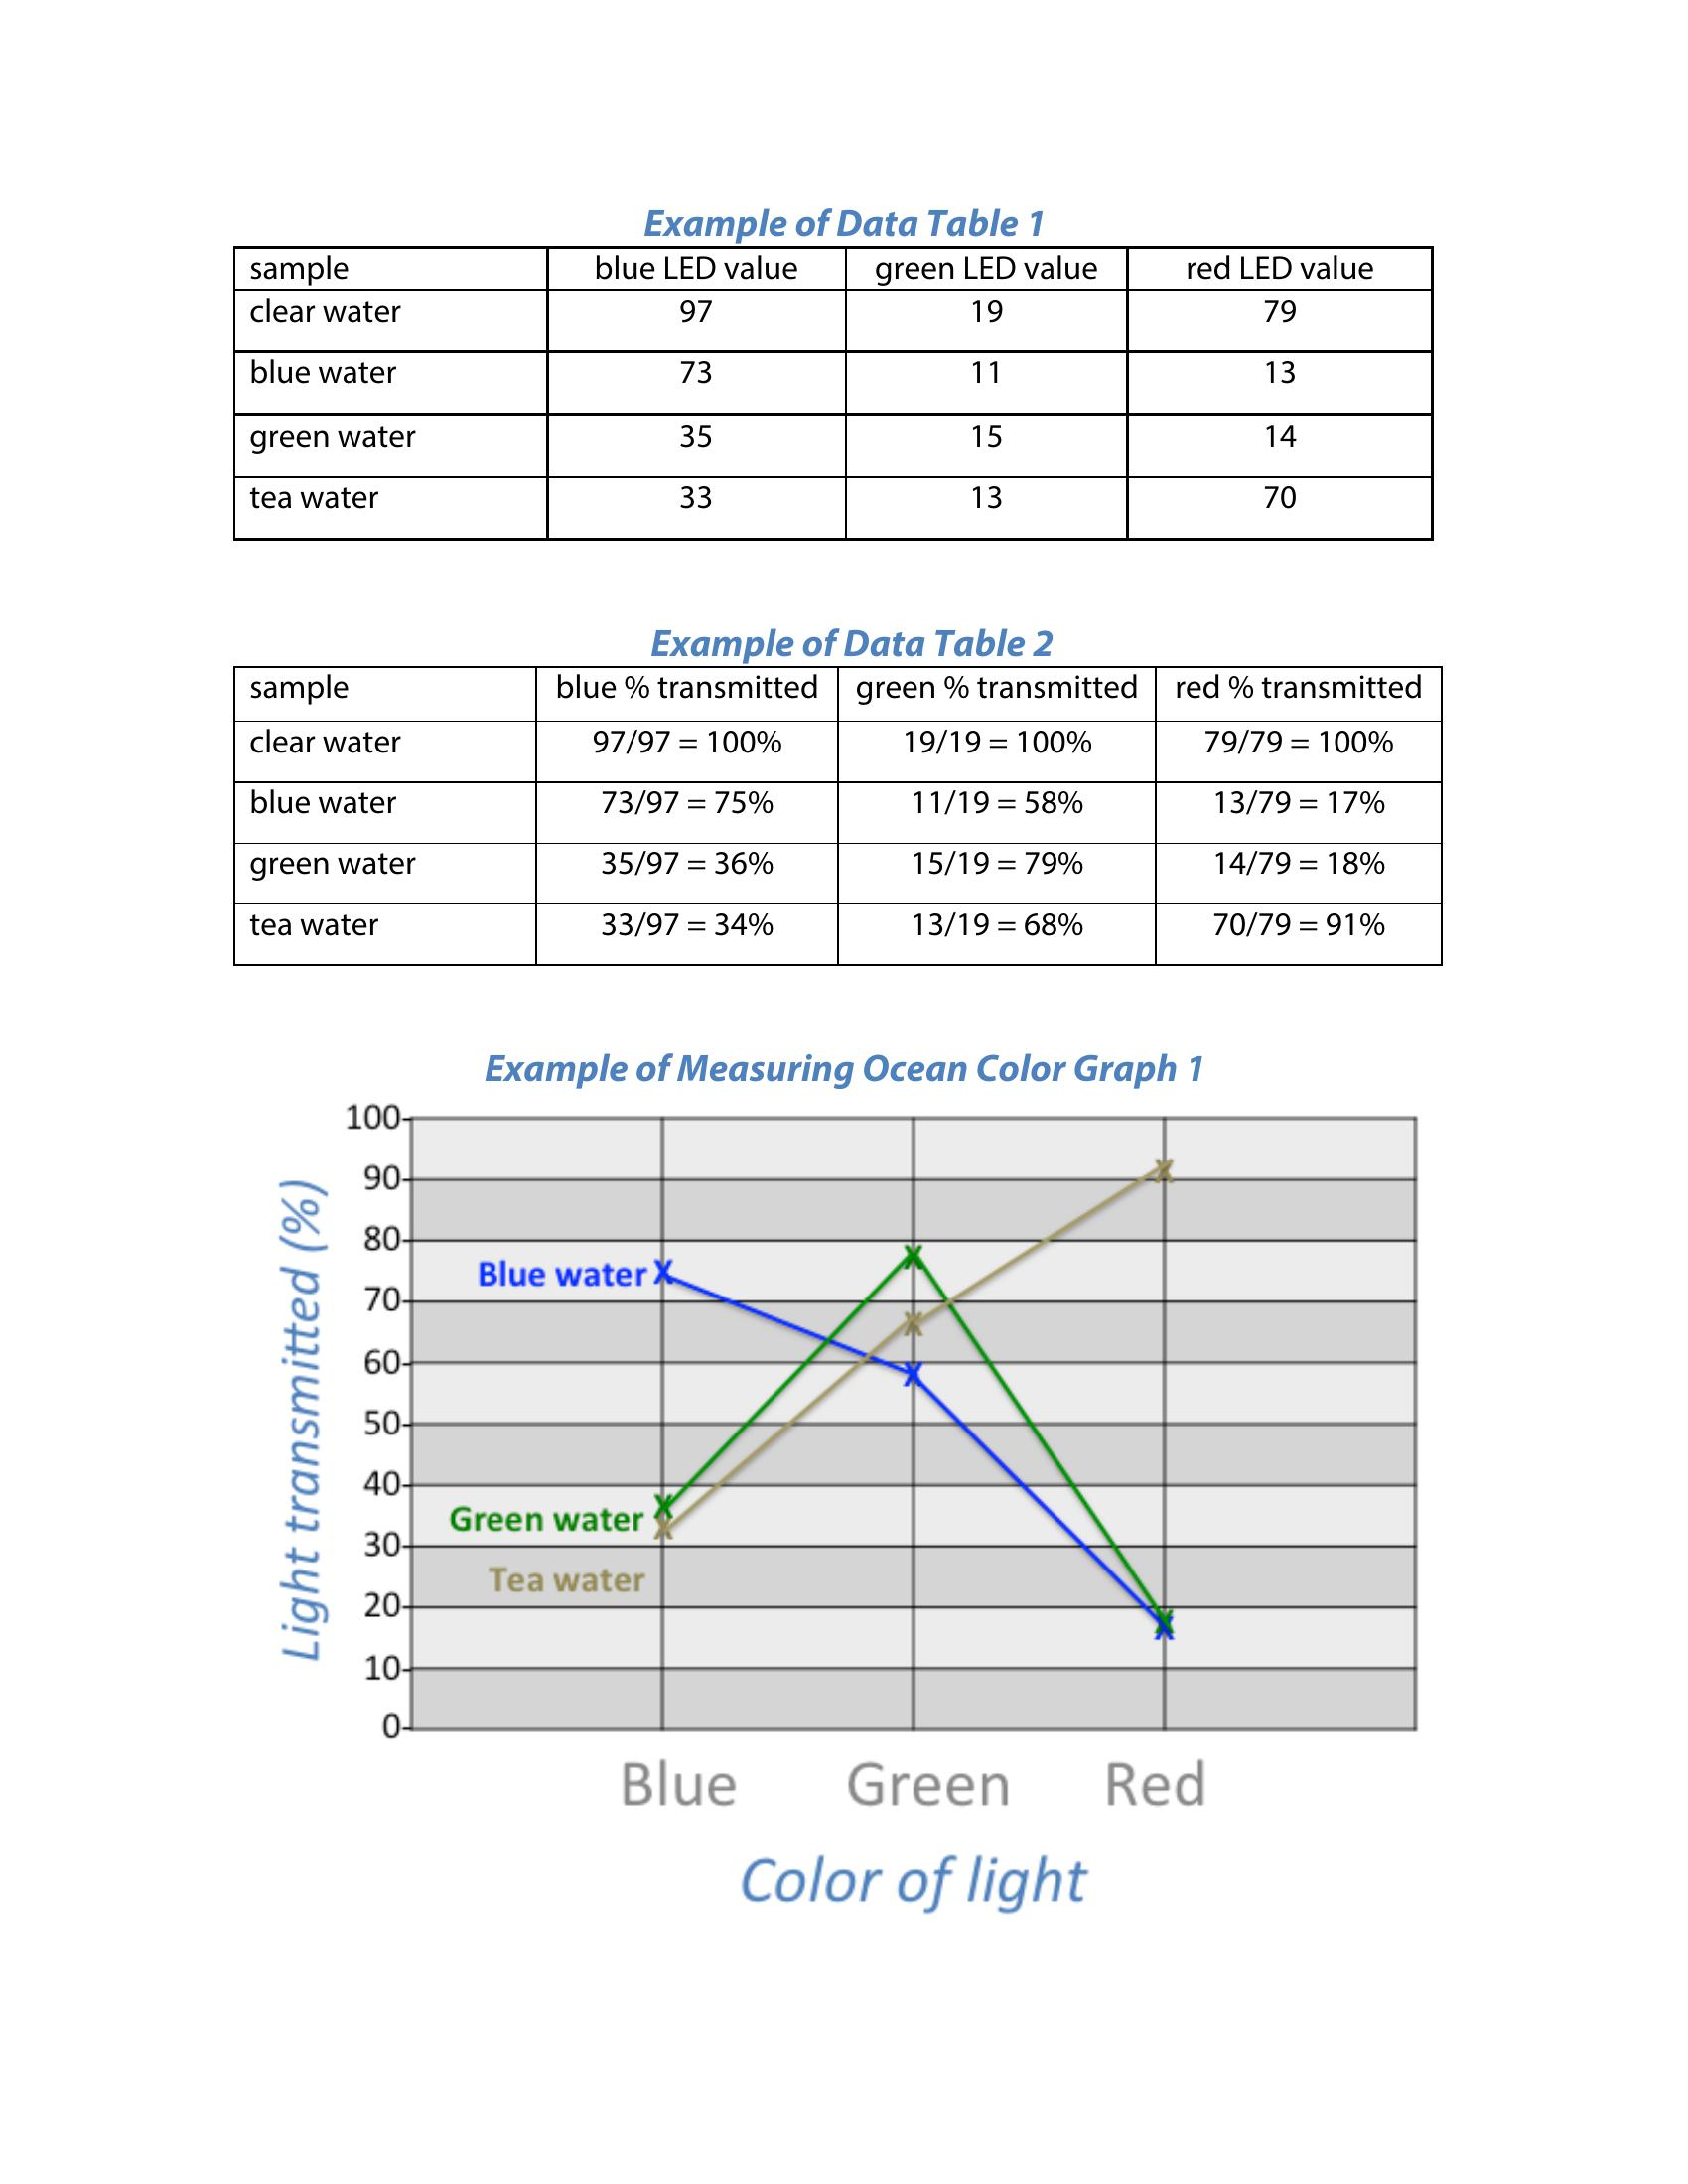table: (231, 661, 1447, 963), (231, 241, 1434, 542)
